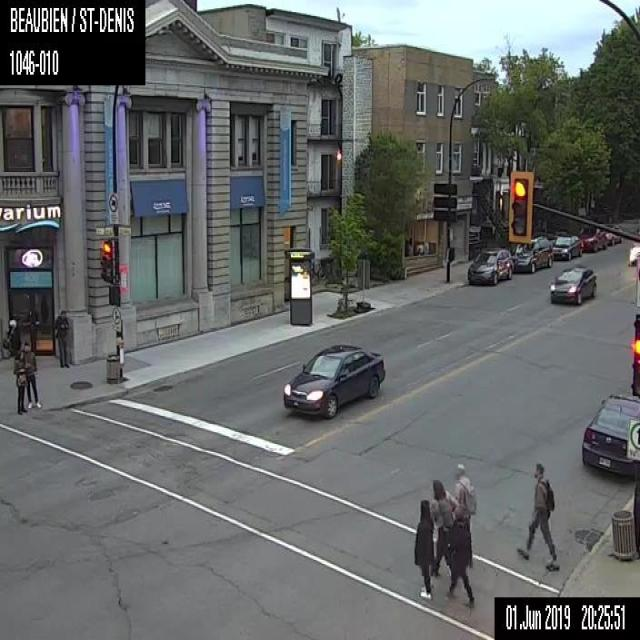pedestrian: (516, 462, 559, 570), (446, 511, 474, 606), (430, 478, 453, 576), (414, 498, 434, 600), (451, 462, 477, 512), (23, 342, 41, 408), (12, 348, 26, 414), (55, 309, 69, 367)
vehicle: (283, 343, 385, 417), (581, 392, 639, 480), (548, 265, 596, 304), (467, 248, 512, 284), (511, 237, 552, 272), (550, 234, 582, 260), (580, 226, 606, 252), (605, 223, 622, 245)
